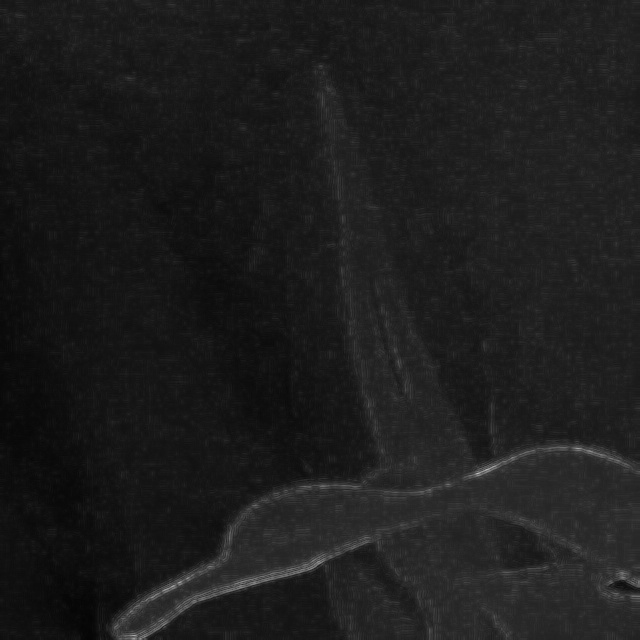Class 0- No endodontic treatment: (151, 33, 596, 600)
